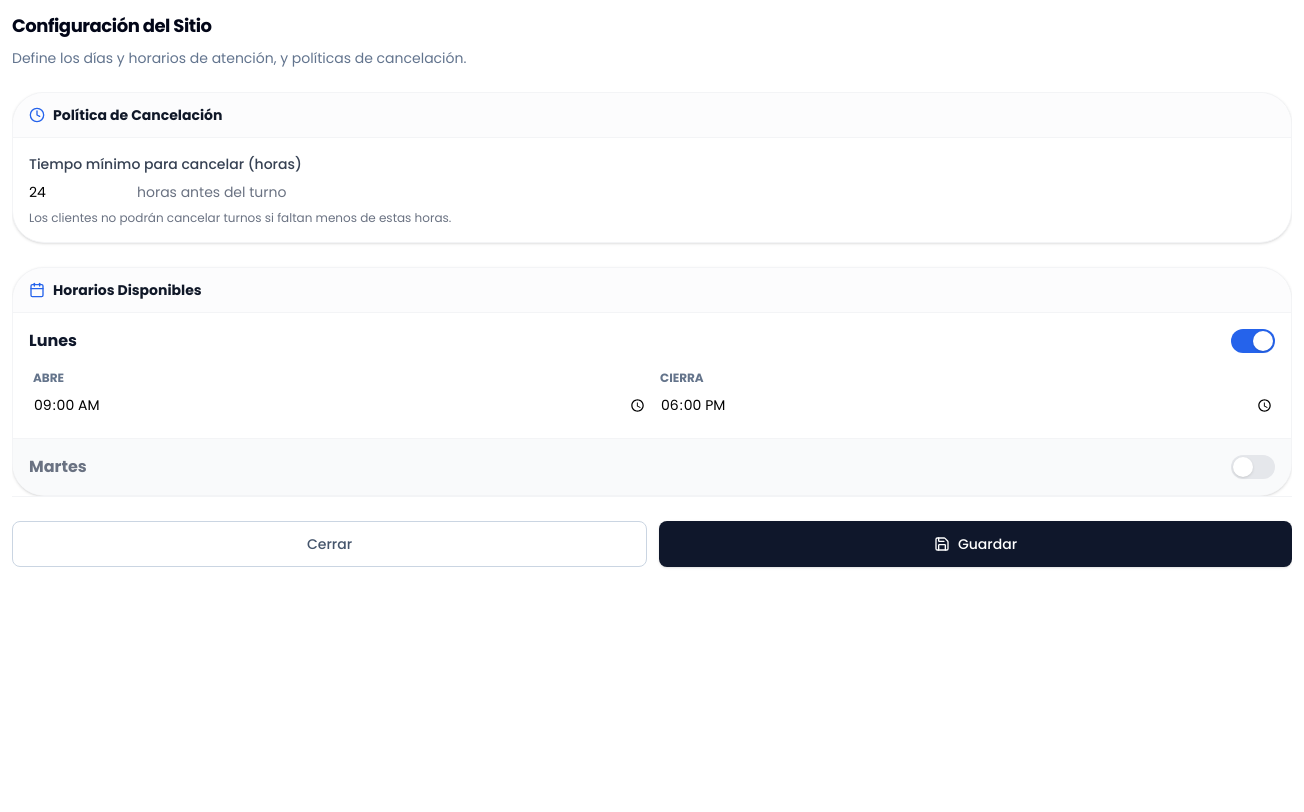
Scenario: SettingsSidebar › handles save failure in settings
What coordinates should you click on to do the following:
click the button "Guardar"
I would click on:
 (976, 544)
Its box is [659,521,1292,567].
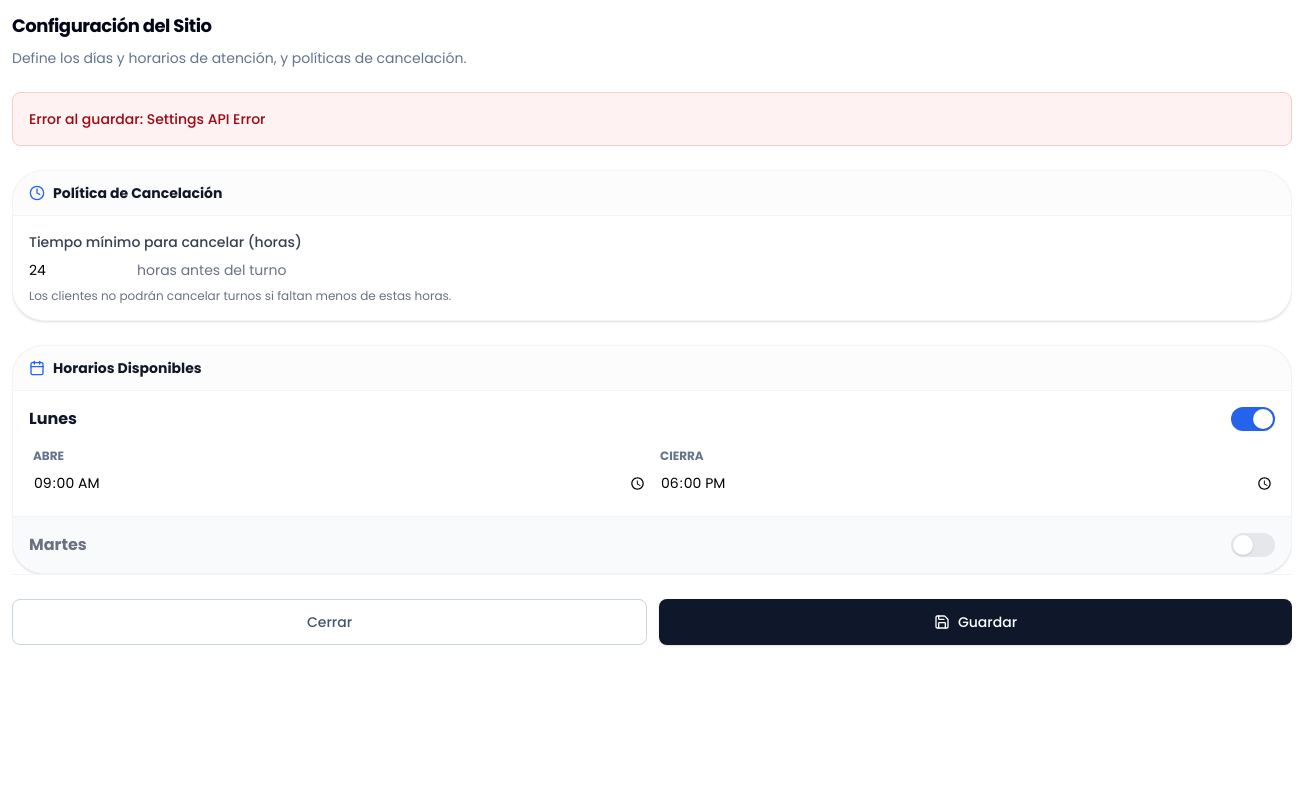
expect the text "Error al guardar: Settings API Error" is shown: met, box [12,92,1292,146]
